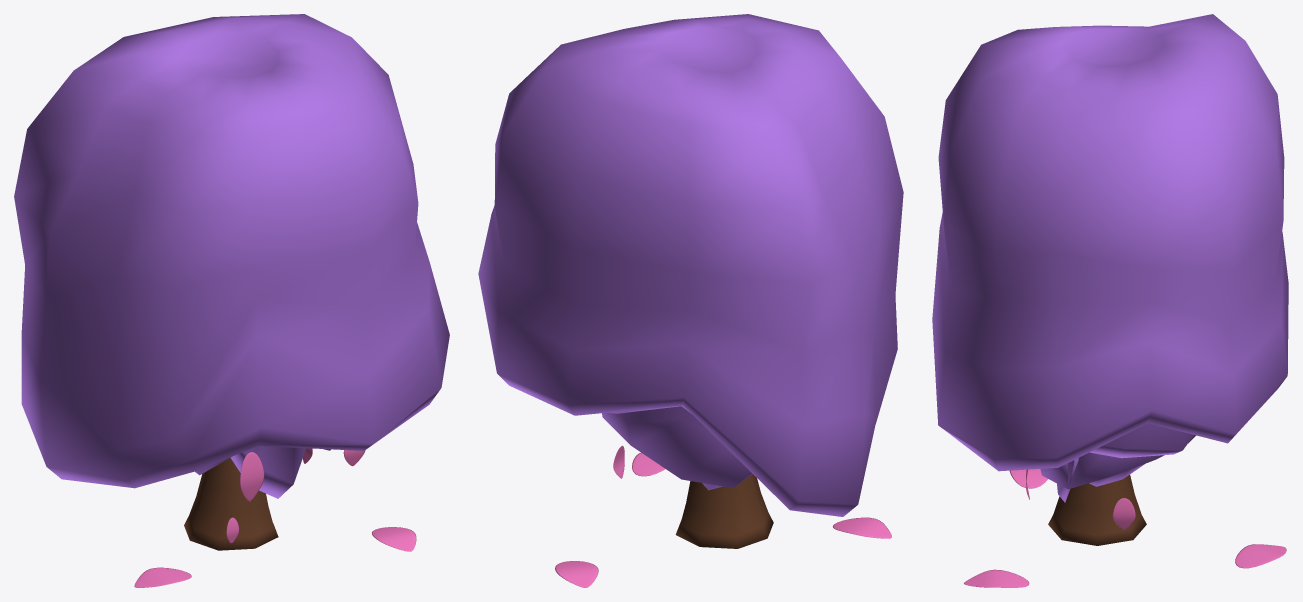
File: Ива — копия.fbx
The picture shows the model from 3 angles, left to right: view 1: azimuth 30°, elevation 25°; view 2: azimuth 150°, elevation 25°; view 3: azimuth 270°, elevation 25°; orthographic projection. The views are drawn at different scales.
Parts seen in each view (by area): view 1: Plane.002, Plane.001, Цветок, Цветок.004, Цветок.003; view 2: Plane.002, Plane.001, Цветок.004, Цветок.005; view 3: Plane.002, Plane.001, Цветок.005, Цветок.003, Цветок.006, Цветок.004.
Boxes of the visible parts, x1,y1,x2,y2 form: Plane.002: (14, 14, 449, 498); Plane.001: (184, 458, 278, 550); Цветок: (240, 452, 264, 501); Цветок.004: (134, 567, 191, 587); Цветок.003: (372, 527, 416, 551); Plane.002: (478, 14, 903, 516); Plane.001: (675, 474, 773, 548); Цветок.004: (832, 517, 891, 538); Цветок.005: (555, 561, 598, 587); Plane.002: (932, 14, 1288, 502); Plane.001: (1048, 474, 1146, 545); Цветок.005: (1235, 544, 1286, 568); Цветок.003: (964, 569, 1029, 587); Цветок.006: (1112, 498, 1135, 529); Цветок.004: (1009, 469, 1047, 488).
Size of the model in its own units: 838 by 1011 by 668.
